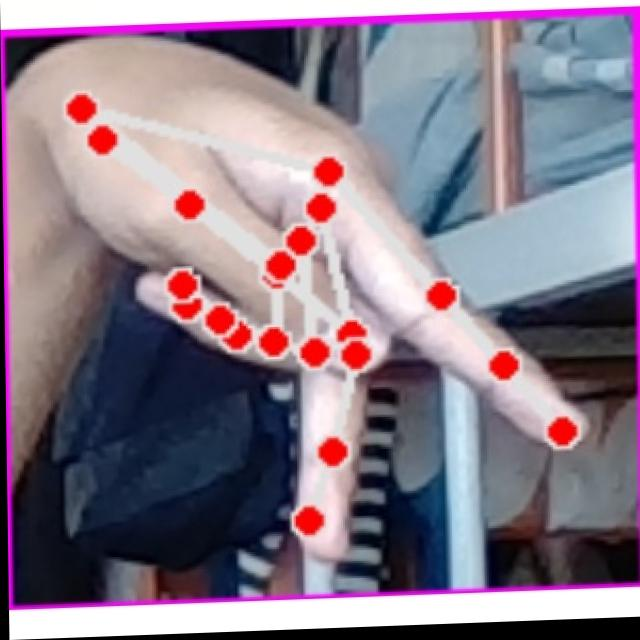P: (37, 35, 590, 582)
